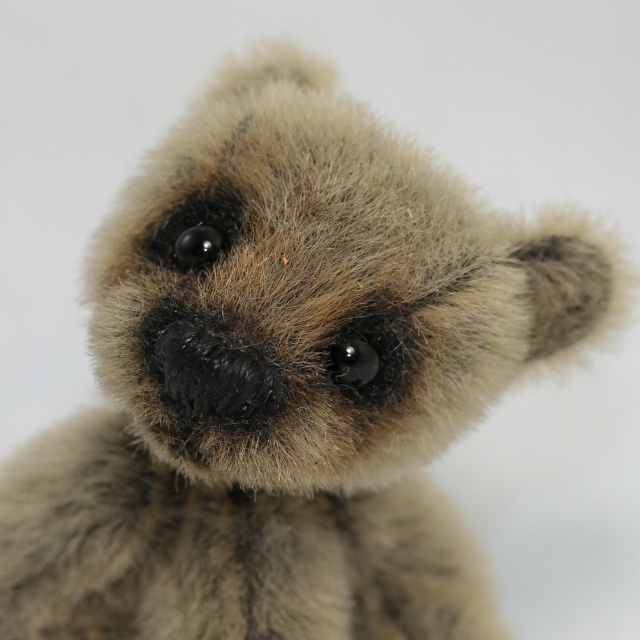Otter: (0, 27, 640, 620)
